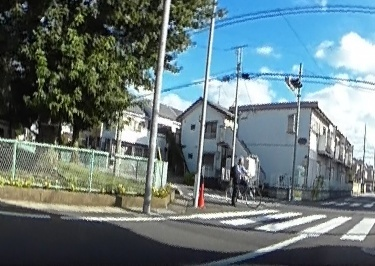person: (230, 153, 246, 202)
